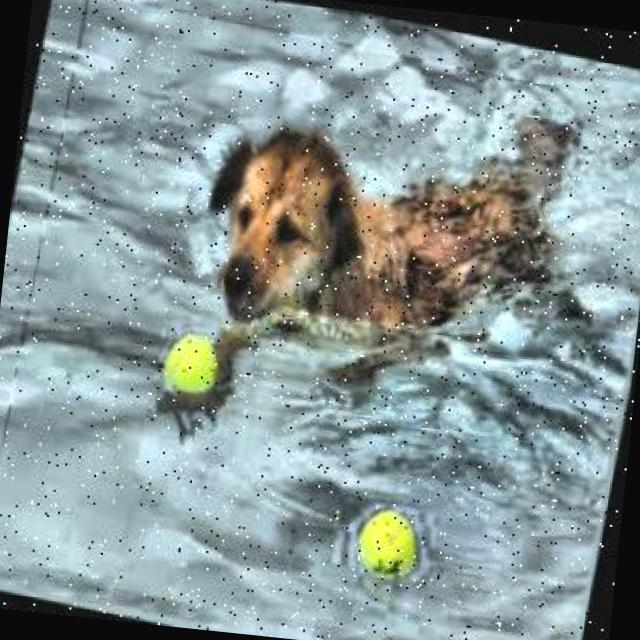Tennis Ball: (355, 499, 428, 580), (159, 328, 227, 398)
